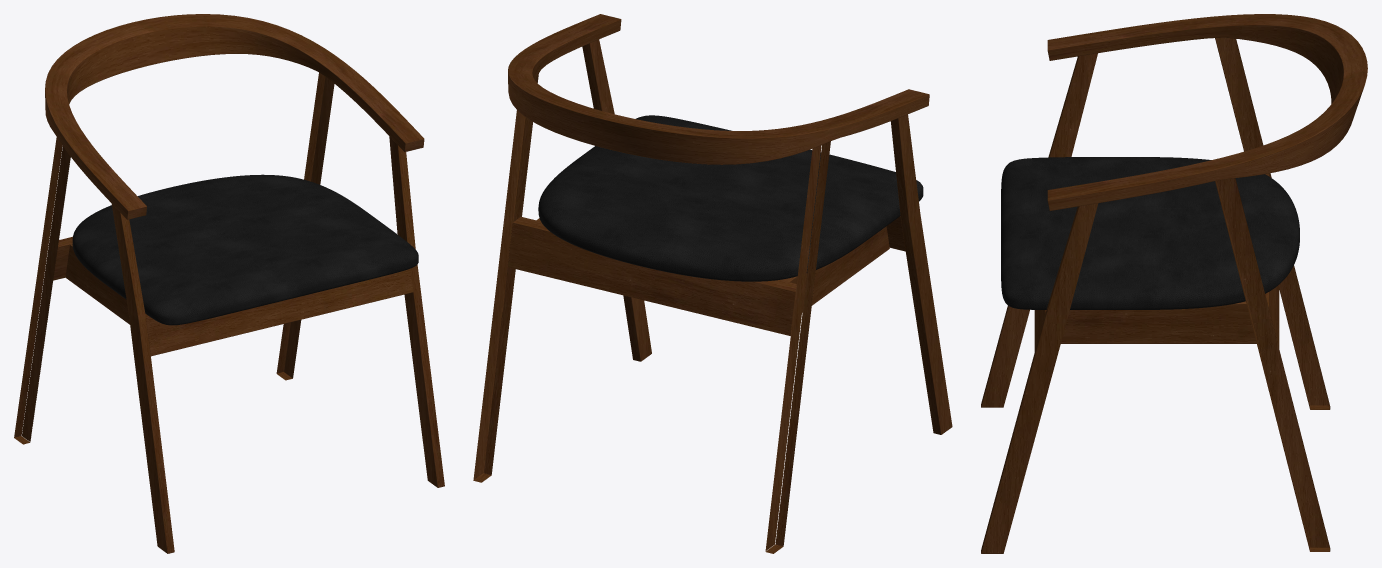
The model's file is newChair7-transformed.glb.
3 views of the same model, side by side, from view 1: azimuth 30°, elevation 25°; view 2: azimuth 150°, elevation 25°; view 3: azimuth 270°, elevation 25° (orthographic). The views are drawn at different scales.
Visible parts, largest first — view 1: Object_4.001; view 2: Object_4.001; view 3: Object_4.001.
Part boxes in pixels (box(x1,y1,x2,y2)): Object_4.001: box(14, 14, 444, 553); Object_4.001: box(473, 14, 952, 553); Object_4.001: box(981, 14, 1367, 553).
Size of the model in its own units: 0.62 by 0.7398 by 0.6315.
Materials: 2 (2 with a texture image).
